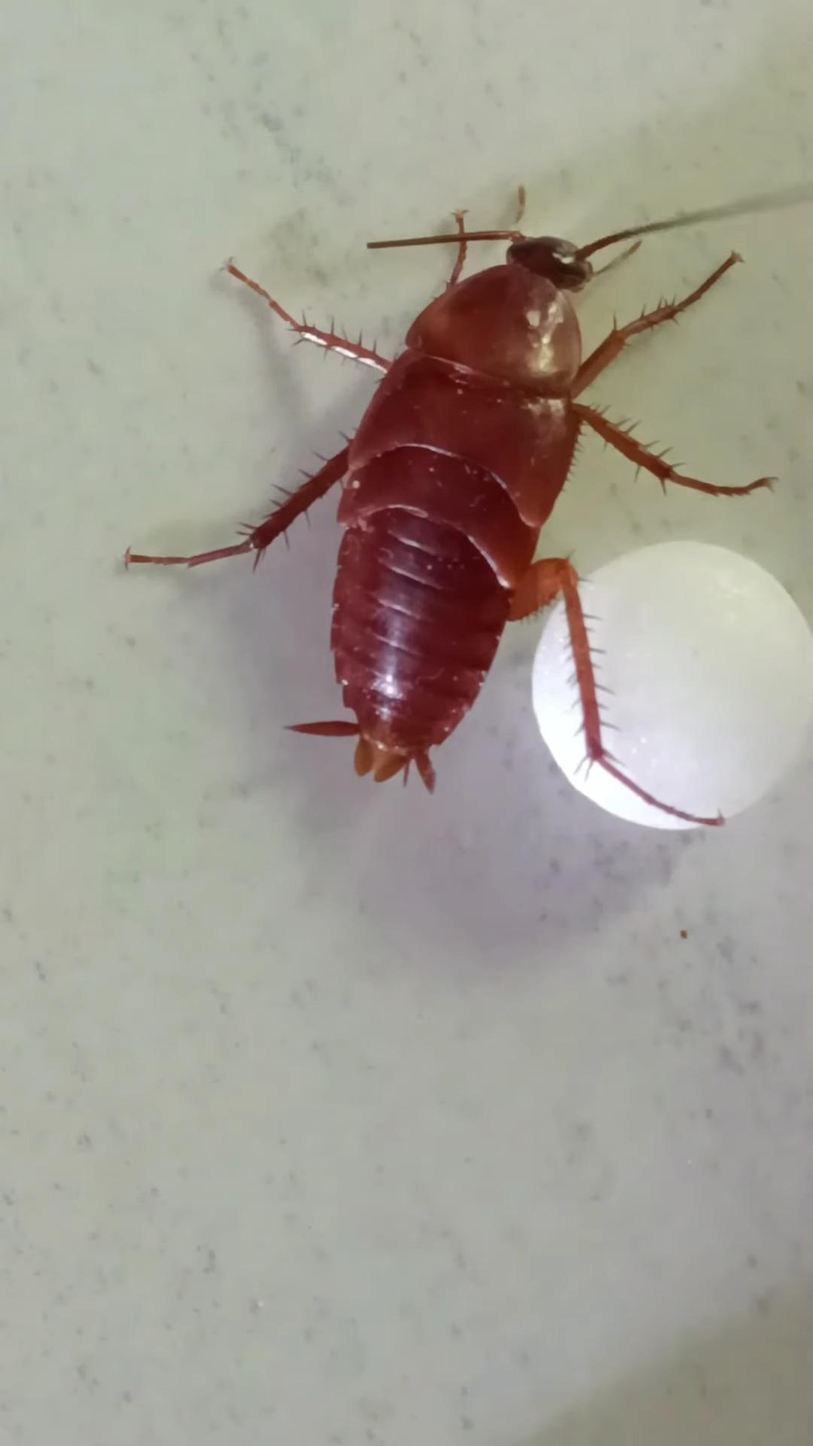cockroach: (117, 170, 744, 841)
